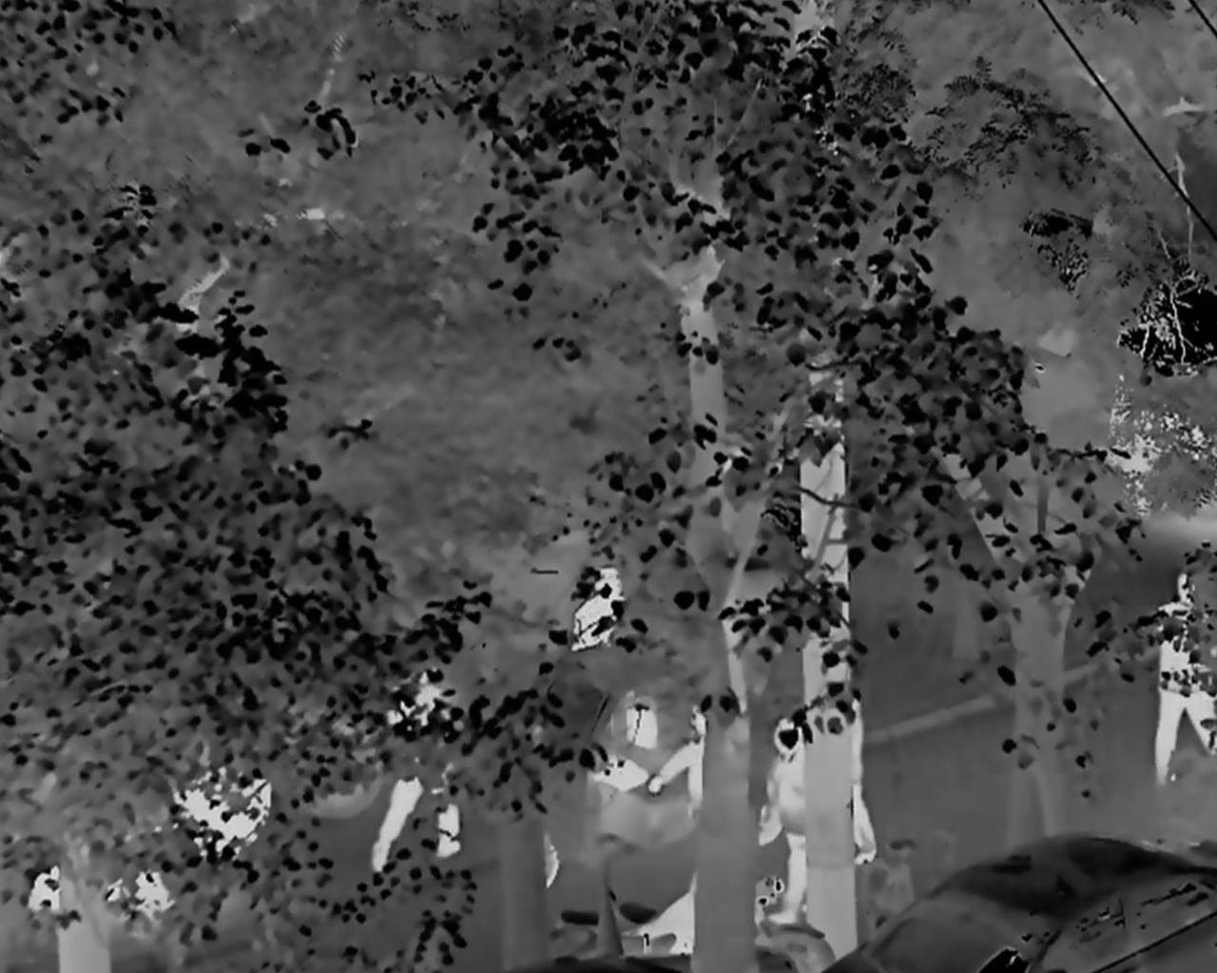person: (369, 658, 463, 869), (762, 711, 808, 923), (649, 703, 704, 820), (852, 694, 878, 867), (571, 563, 621, 651)
